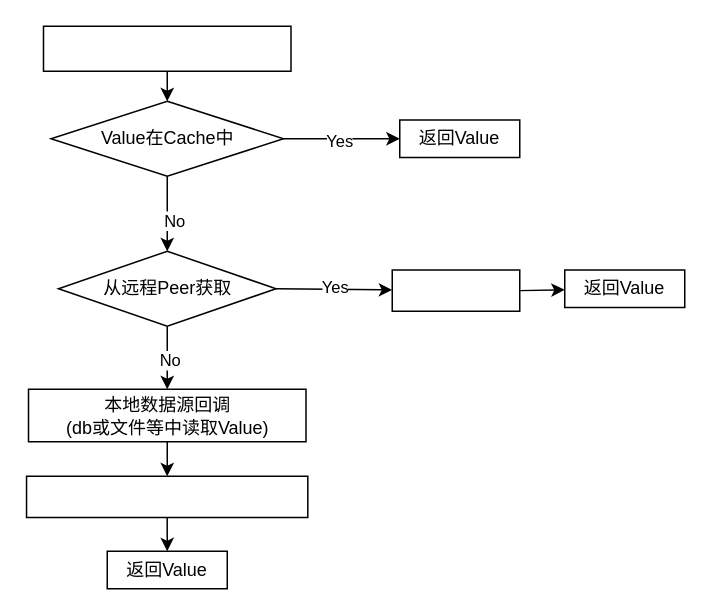
This 711x615 diagram has some shape labels left out. The shapes that lost their labels are listed below. From the top down, each one's centre as x and y in pixels, then its label:
At [166,48]: "Group接收要查询的Key".
At [455,289]: "与Peer交互".
At [166,496]: "将Value缓存到Cache中".
